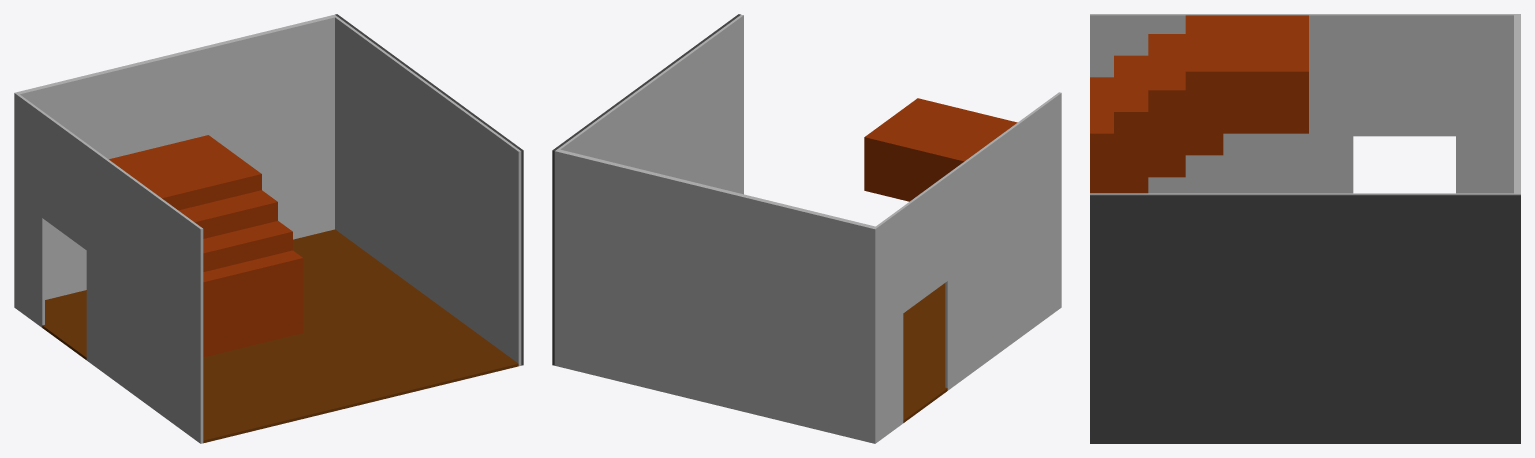
The model's file is 4x2 first (1)-1.obj.
3 views of the same model, side by side, from view 1: azimuth 30°, elevation 25°; view 2: azimuth 150°, elevation 25°; view 3: azimuth 270°, elevation 25° (orthographic). The views are drawn at different scales.
Visible parts, largest first — view 1: 4x2 first (1)-1; view 2: 4x2 first (1)-1; view 3: 4x2 first (1)-1.
Part boxes in pixels (x1,y1,x2,y2): 4x2 first (1)-1: (14, 14, 523, 443); 4x2 first (1)-1: (552, 14, 1061, 443); 4x2 first (1)-1: (1090, 14, 1520, 443).
Bounding box in the file's own units: 126 × 80 × 126.
Materials: 1 (1 with a texture image).
